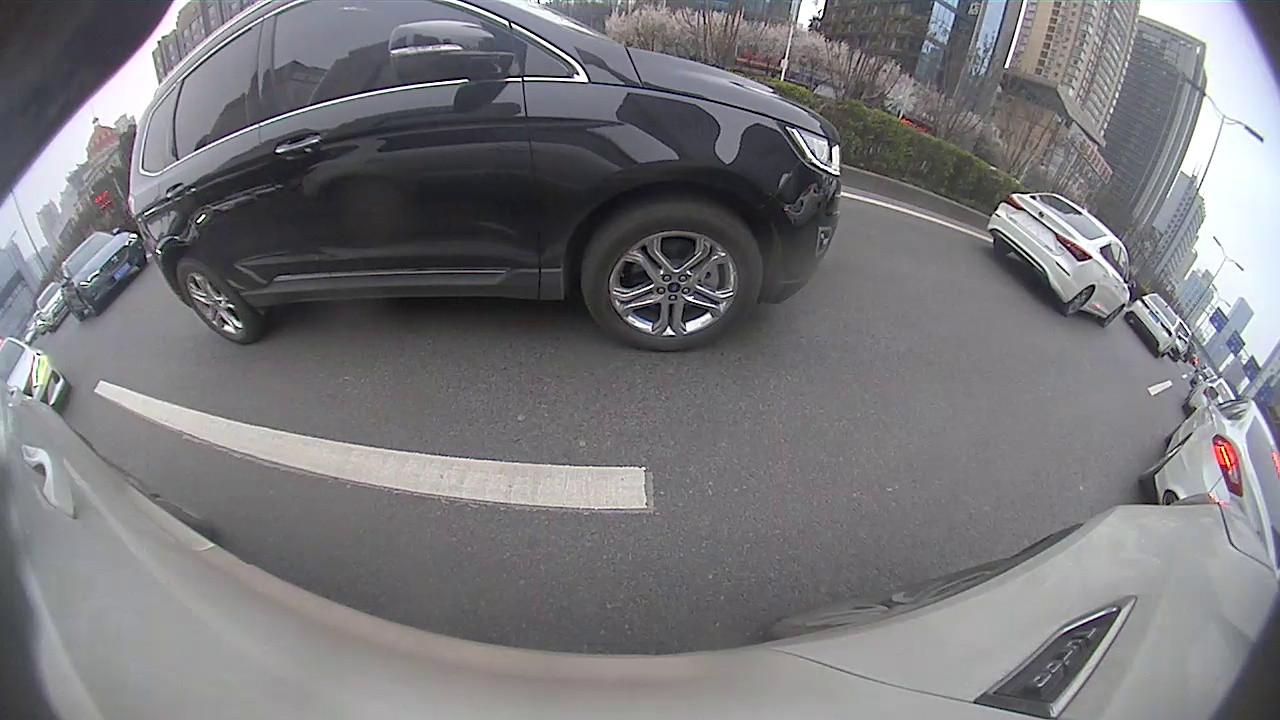car: (126, 1, 844, 353), (1138, 398, 1278, 574), (987, 192, 1140, 327), (58, 230, 148, 323), (1121, 292, 1184, 361)
front: (585, 207, 764, 350)
rear: (173, 260, 251, 342), (1065, 287, 1096, 316)
